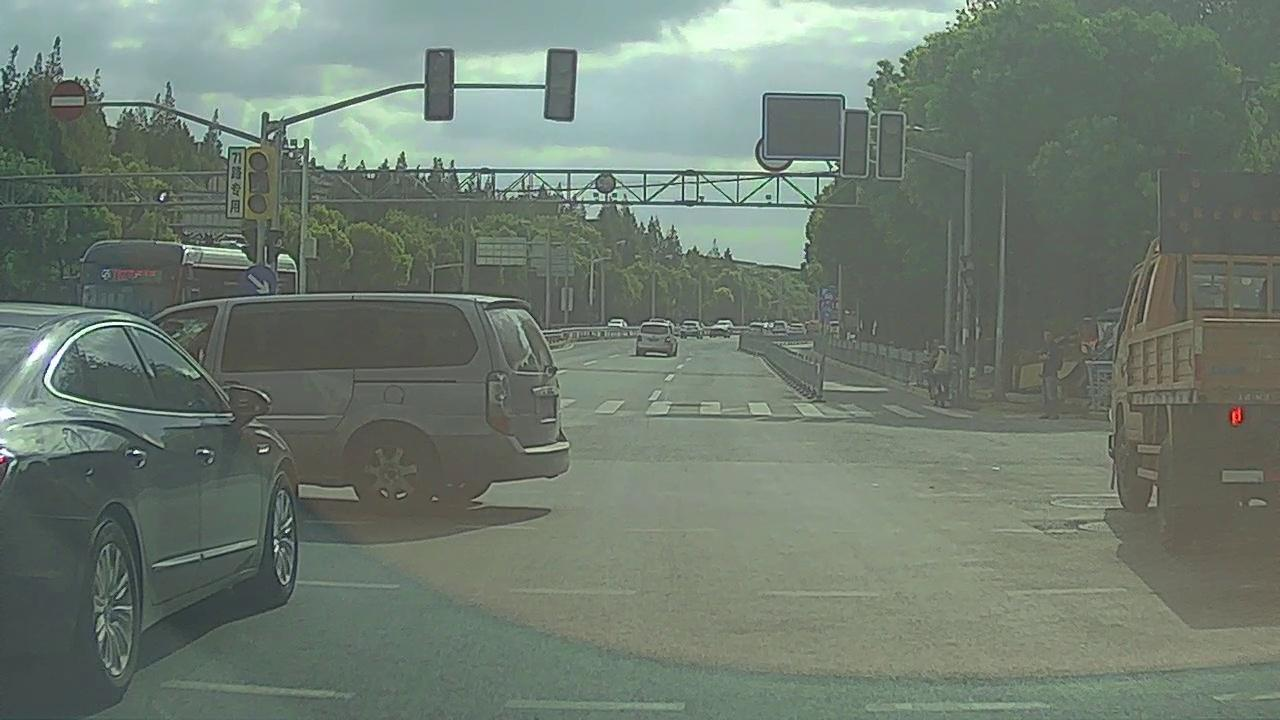traffic_light: (544, 50, 574, 119), (876, 113, 904, 180), (842, 110, 868, 177), (427, 51, 451, 119)
